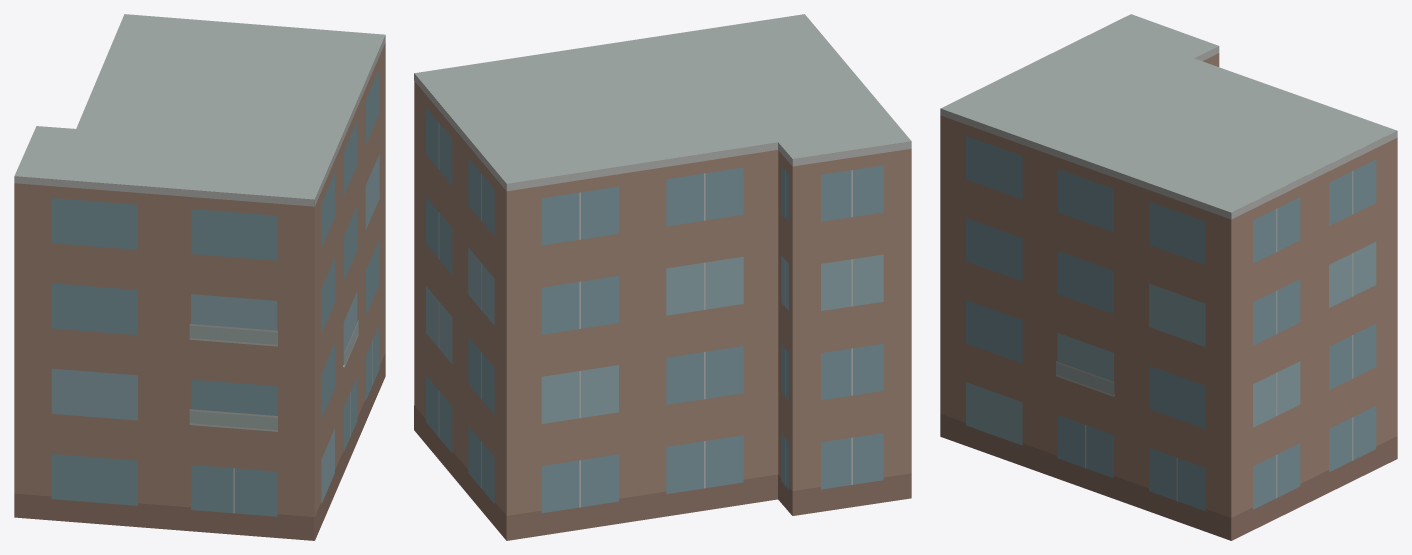
File: survey-upis-32703300.glb
The picture shows the model from 3 angles, left to right: view 1: azimuth 30°, elevation 25°; view 2: azimuth 150°, elevation 25°; view 3: azimuth 270°, elevation 25°; orthographic projection. The views are drawn at different scales.
Visible parts, largest first — view 1: survey-upis-32703300.tmp; view 2: survey-upis-32703300.tmp; view 3: survey-upis-32703300.tmp.
Part boxes in pixels (x1,y1,x2,y2): survey-upis-32703300.tmp: (14, 14, 385, 540); survey-upis-32703300.tmp: (414, 14, 911, 540); survey-upis-32703300.tmp: (940, 14, 1397, 540).
Bounding box in the file's own units: 15.2 × 11.7 × 14.78.
